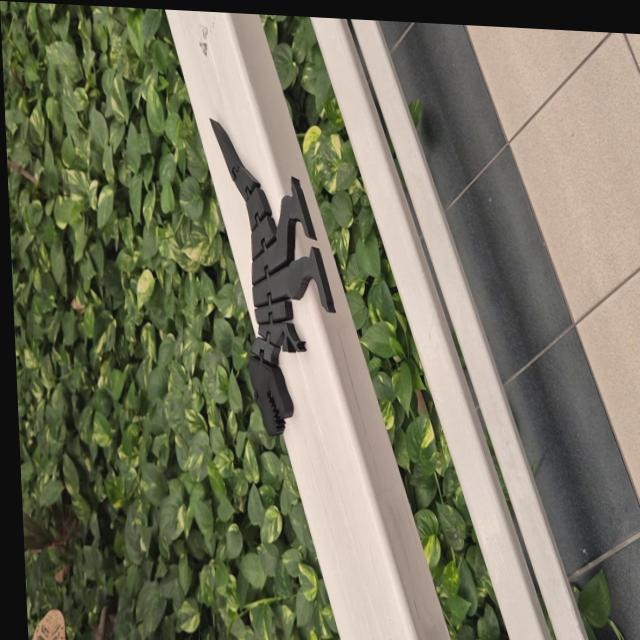dino: (208, 114, 342, 441)
